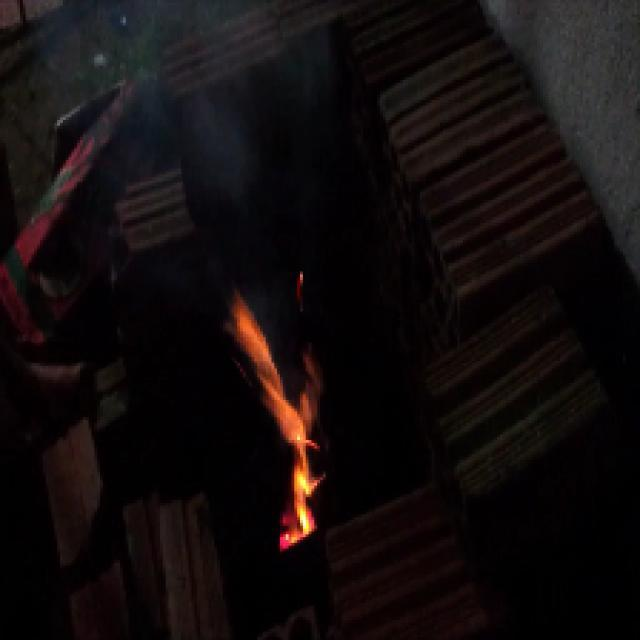Fire: (230, 288, 336, 550)
